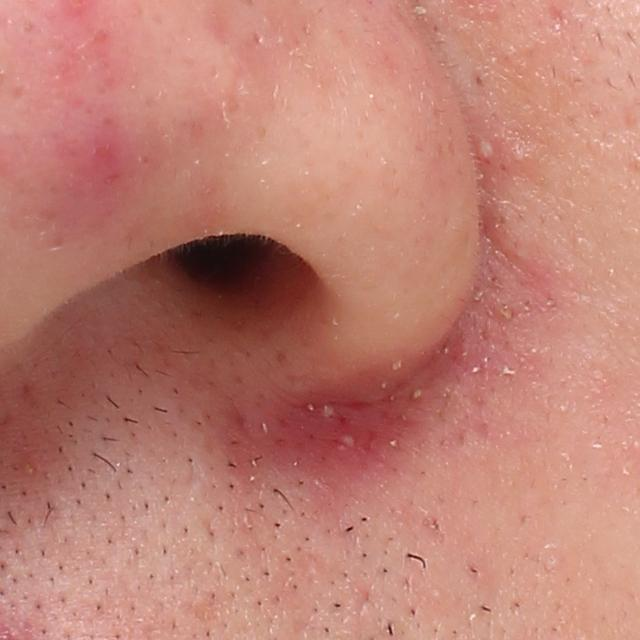pustule: (314, 411, 373, 464), (473, 138, 496, 162)
